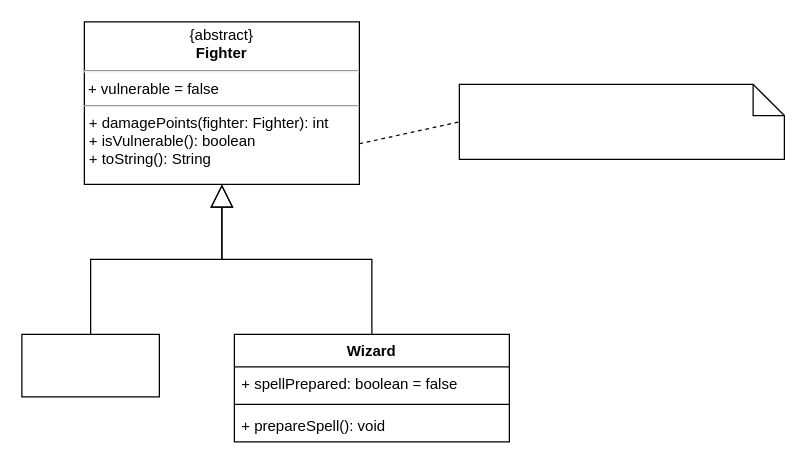
The diagram is 806 pixels wide and 468 high, and some of its shapes have lost their labels. Here are the shapes that lost their labels. From the top down, the centre of each, then its label:
(621,121): toString = "Fighter is a <FIGHTER_TYPE>"
(90,365): Warrior
